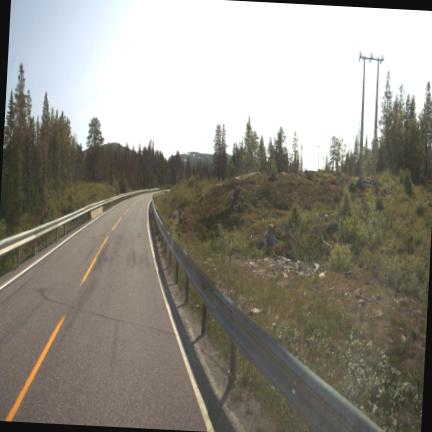Road: (0, 194, 206, 430)
